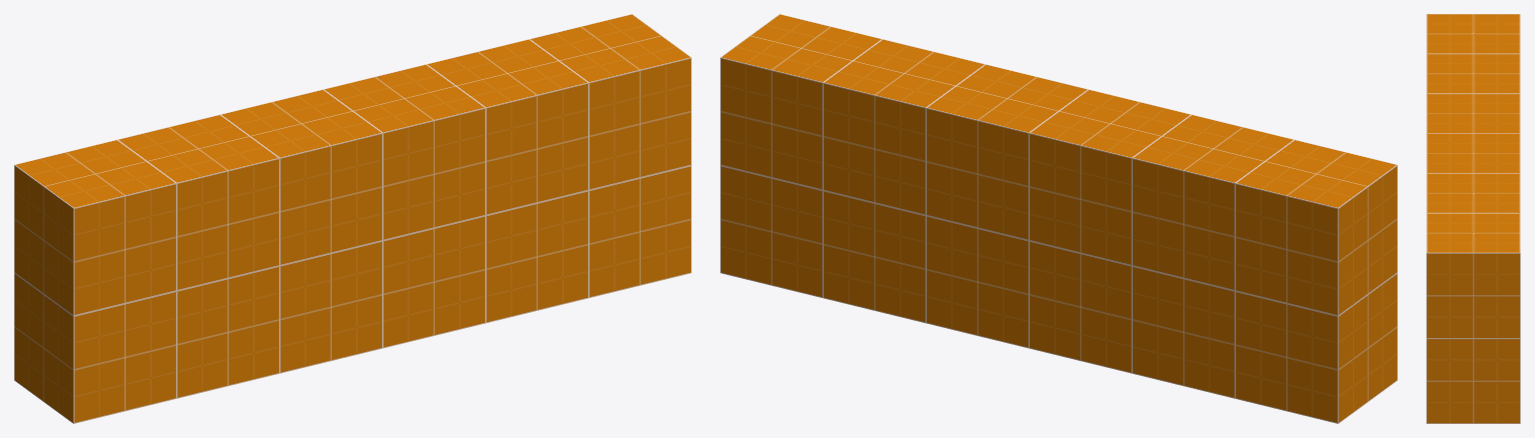
File: Block_6x1x2.obj
3 renders of one model, left to right at view 1: azimuth 30°, elevation 25°; view 2: azimuth 150°, elevation 25°; view 3: azimuth 270°, elevation 25°, orthographic. The views are drawn at different scales.
Visible parts, largest first — view 1: Block_6x1x2_Cube.205; view 2: Block_6x1x2_Cube.205; view 3: Block_6x1x2_Cube.205.
Boxes of the visible parts, x1,y1,x2,y2 form: Block_6x1x2_Cube.205: (14, 14, 691, 423); Block_6x1x2_Cube.205: (720, 14, 1397, 423); Block_6x1x2_Cube.205: (1426, 14, 1520, 423).
Bounding box in the file's own units: 6 × 2 × 1.
1 material, 1 textured.
